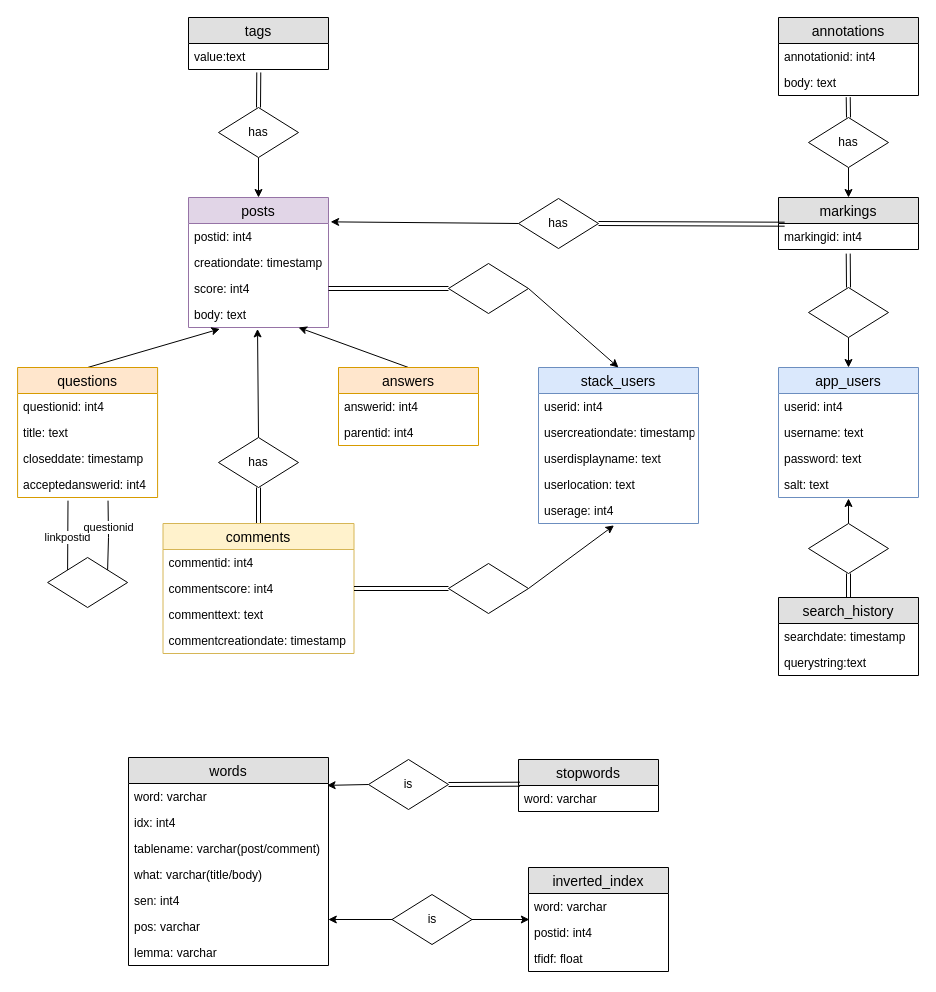
This 936x992 diagram has some shape labels left out. Each missing label, with the centre of its shape:
"creates" belongs at (848,312).
"linkpost" belongs at (87,582).
"owned_by" belongs at (488,288).
"searches" belongs at (848,548).
"written_by" belongs at (488,588).
